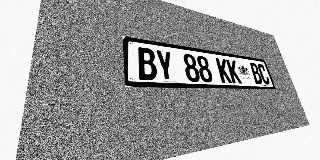8: (182, 53, 201, 82), (196, 55, 214, 82)
B: (136, 47, 158, 80), (249, 62, 263, 84)
C: (257, 64, 271, 85)
K: (215, 58, 232, 83), (226, 59, 242, 83)
Y: (155, 49, 175, 81)
